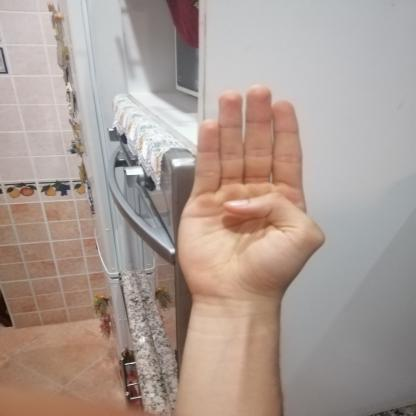KAAF: (153, 76, 343, 318)
